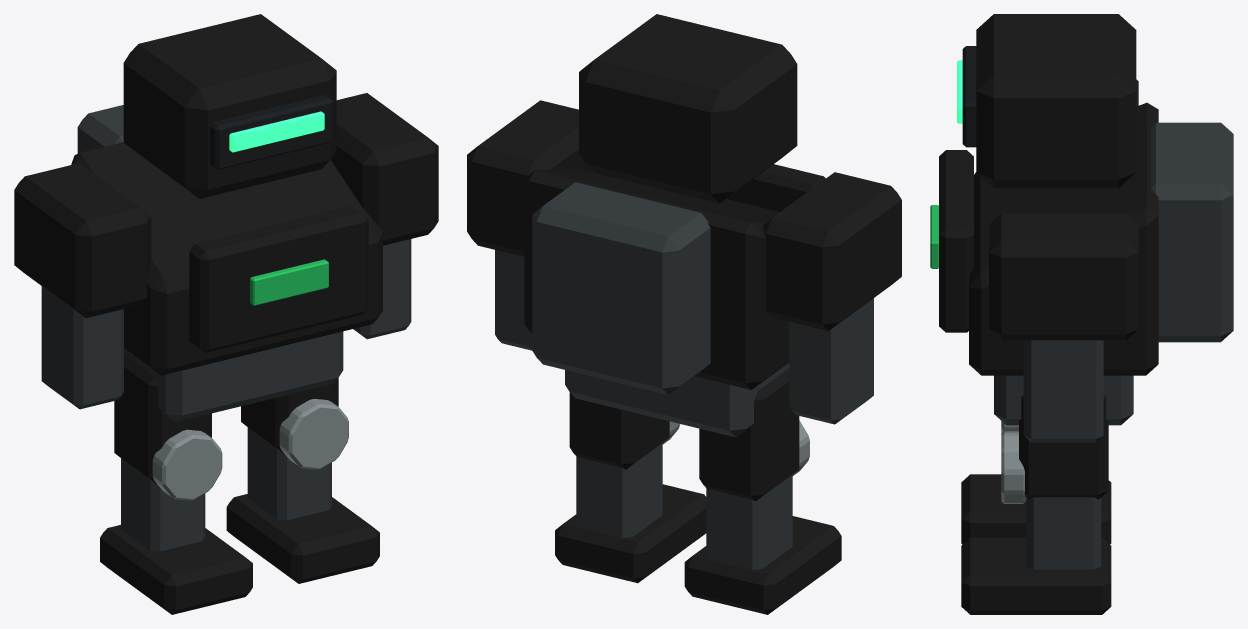
Rendered from troop.glb.
3 views of the same model, side by side, from view 1: azimuth 30°, elevation 25°; view 2: azimuth 150°, elevation 25°; view 3: azimuth 270°, elevation 25° (orthographic). The views are drawn at different scales.
Parts seen in each view (by area): view 1: Cube011_1, Cube011, Cube003, Cube006, Cube006_2, Cube003_2, Cube011_3, Cube003_1, Cube006_1, Cube011_2, Cube011_4; view 2: Cube011_1, Cube011, Cube003, Cube006, Cube006_2, Cube003_2; view 3: Cube011_1, Cube011, Cube006, Cube006_2, Cube003, Cube006_1, Cube011_3, Cube011_2.
Boxes of the visible parts, x1,y1,x2,y2 form: Cube011_1: [14, 14, 438, 375]; Cube011: [41, 105, 411, 421]; Cube003: [100, 354, 252, 614]; Cube006: [226, 378, 379, 583]; Cube006_2: [247, 427, 331, 520]; Cube003_2: [121, 458, 205, 551]; Cube011_3: [210, 95, 333, 169]; Cube003_1: [152, 429, 222, 500]; Cube006_1: [279, 398, 348, 469]; Cube011_2: [250, 259, 328, 305]; Cube011_4: [229, 111, 324, 152]; Cube011_1: [467, 14, 901, 389]; Cube011: [495, 182, 873, 437]; Cube003: [684, 368, 841, 614]; Cube006: [555, 392, 706, 583]; Cube006_2: [576, 443, 662, 538]; Cube003_2: [706, 474, 792, 569]; Cube011_1: [939, 14, 1158, 375]; Cube011: [994, 122, 1233, 442]; Cube006: [961, 394, 1111, 614]; Cube006_2: [1026, 497, 1101, 569]; Cube003: [961, 474, 1111, 544]; Cube006_1: [1001, 431, 1026, 503]; Cube011_3: [962, 46, 976, 147]; Cube011_2: [930, 205, 938, 268].
Bounding box in the file's own units: 0.86 × 1.15 × 0.607.
